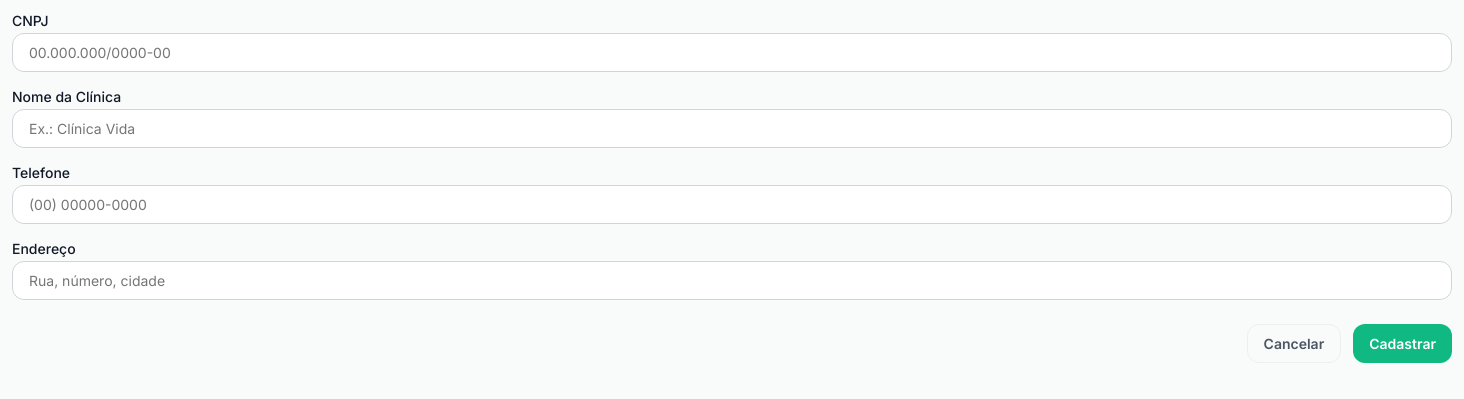
Test: ClinicForm › bloqueia envio com erros sob o campo quando o formulário está inválido
The image size is (1464, 399).
Click the button "Cadastrar" at {"x": 1403, "y": 344}, box [1353,324,1452,363]
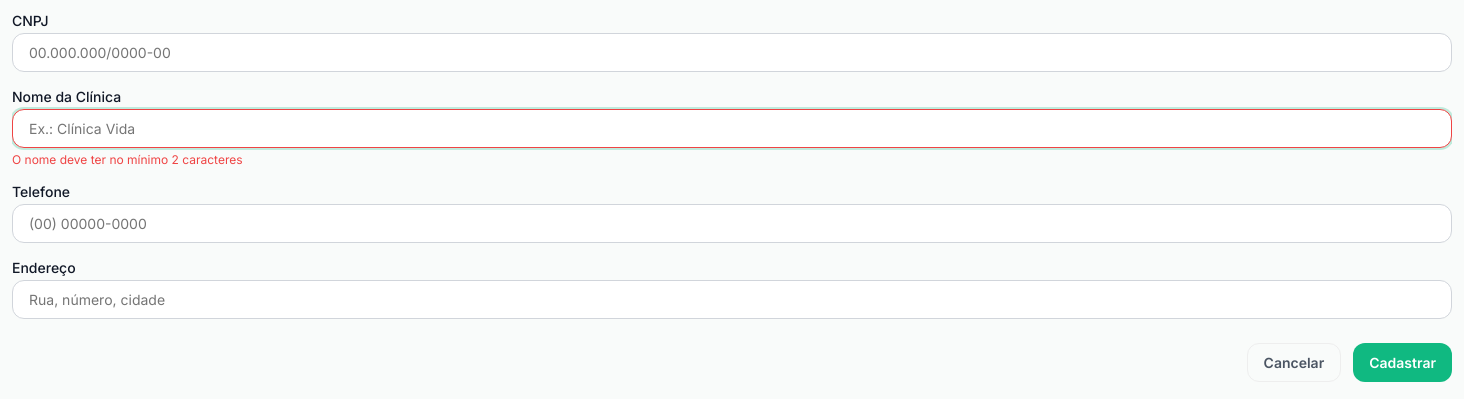
Expected: the text "O nome deve ter no mínimo 2 caracteres" is shown, [12,152,242,167]
